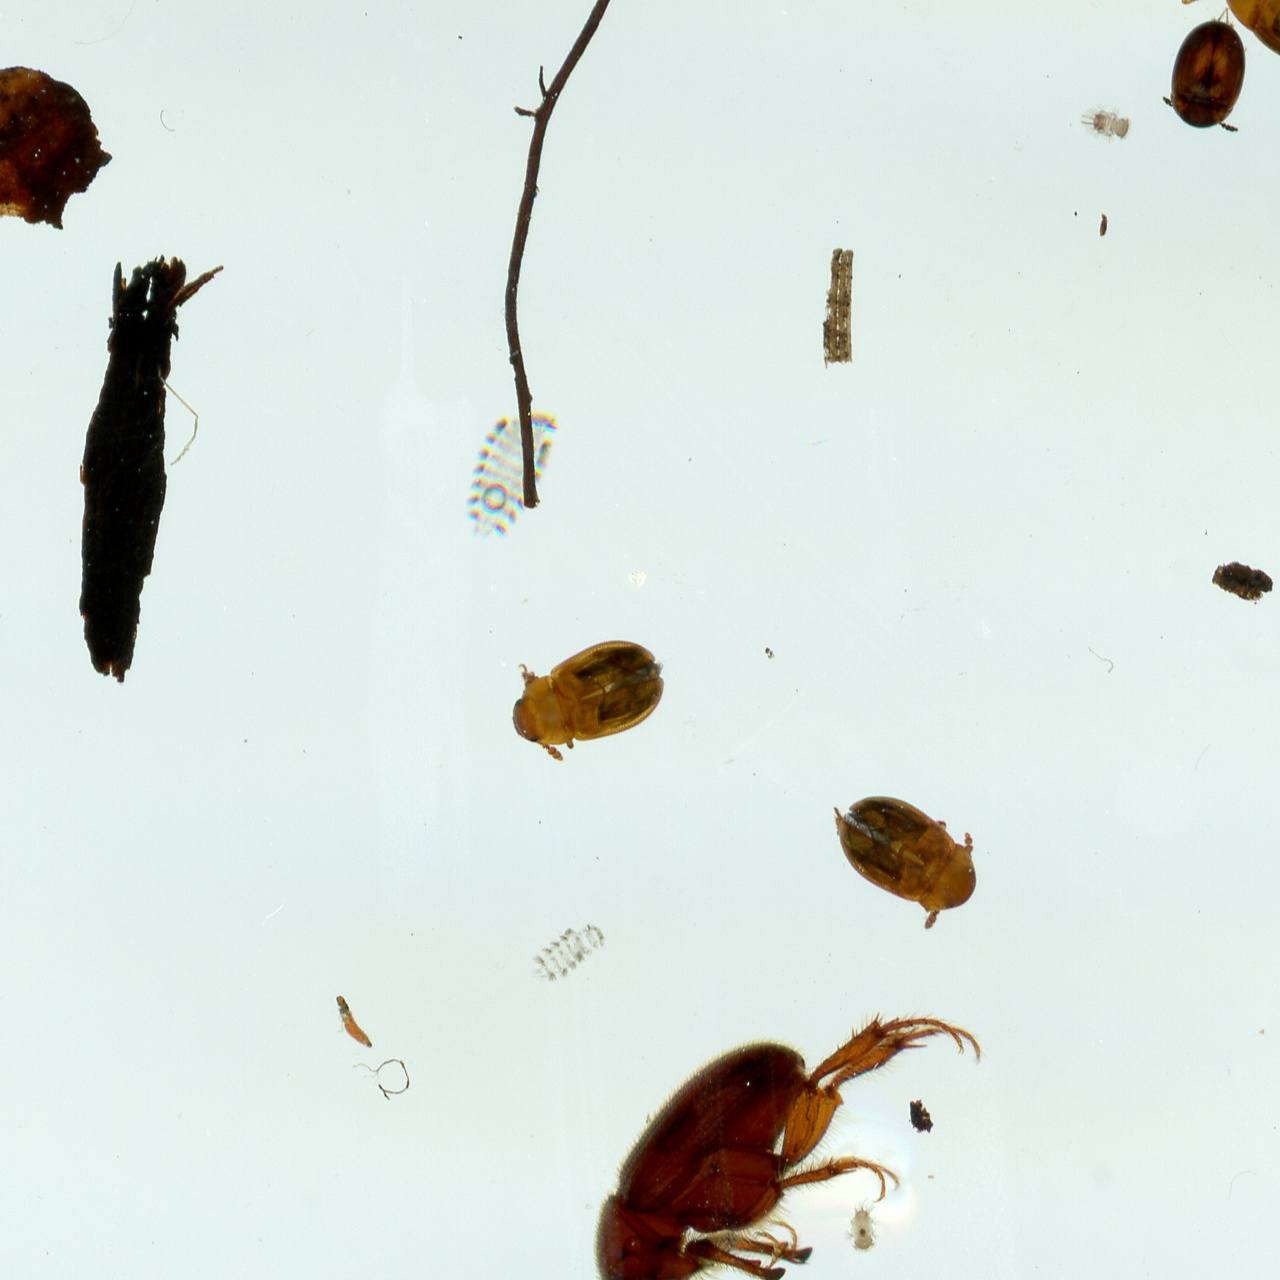arthropod: (599, 986, 988, 1280), (820, 776, 995, 938), (491, 635, 679, 757), (1164, 15, 1244, 138), (1222, 0, 1280, 97), (835, 1194, 882, 1258), (1077, 103, 1127, 142)
